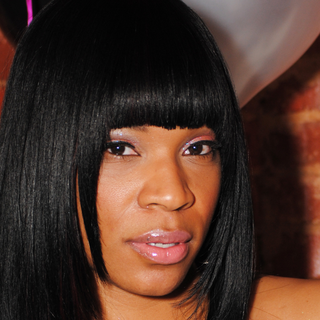eye: (98, 134, 145, 164), (178, 133, 219, 161)
